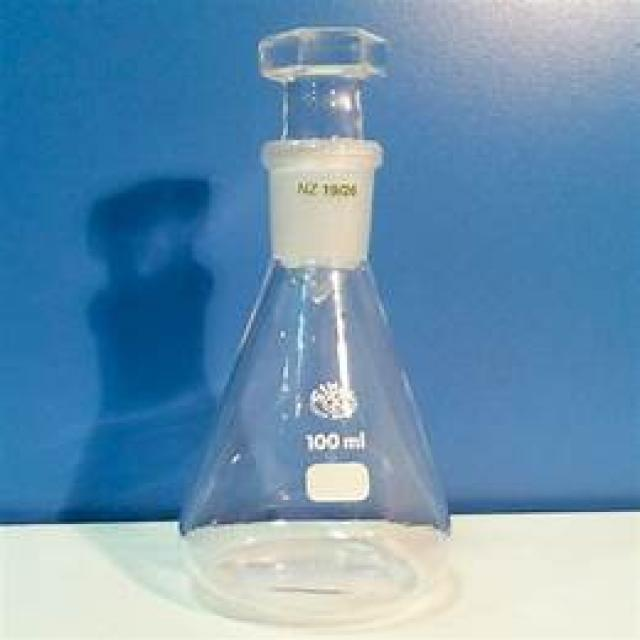Titrarion: (174, 31, 461, 627)
